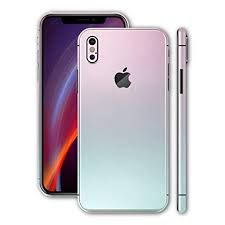iphone: (75, 24, 171, 212)
iphone10: (75, 25, 171, 213)
